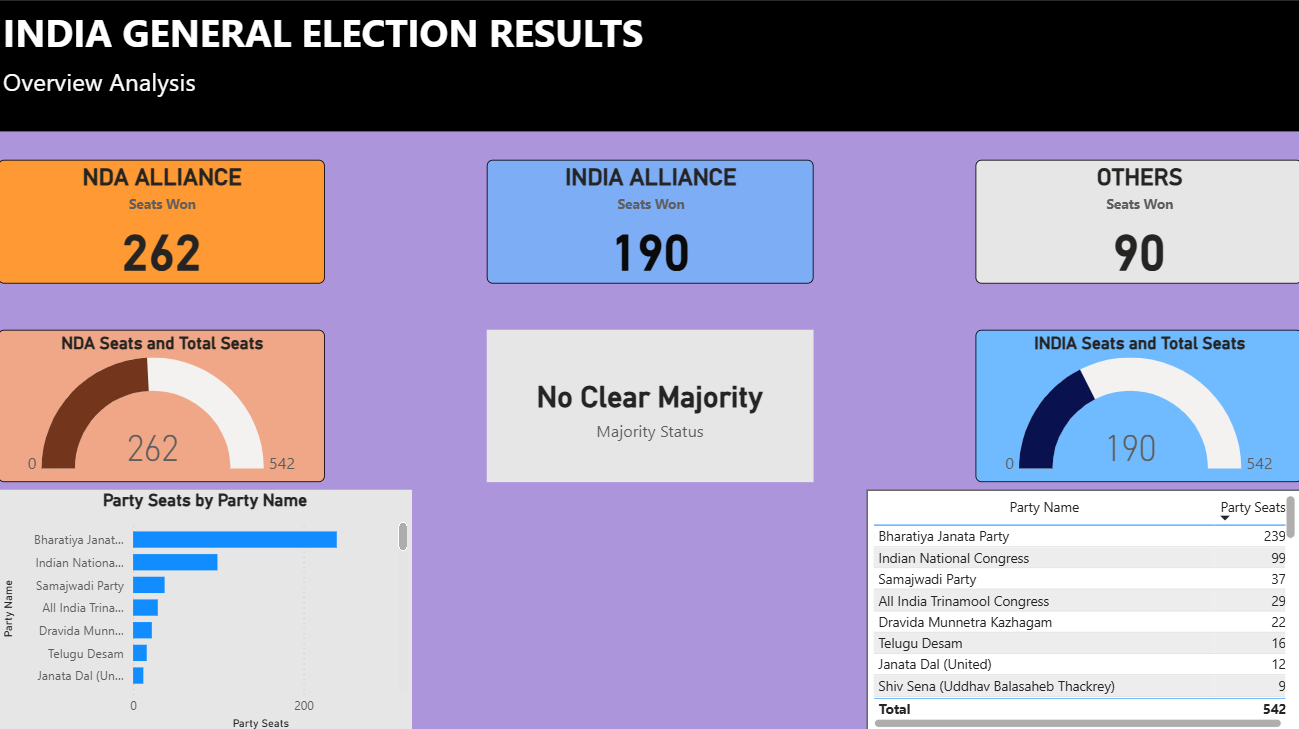

The dashboard page shown, as its layout file describes it:
{"tool":"powerbi","page":{"name":"Overview Analysis","canvas":[1280,720],"ordinal":3},"visuals":[{"type":"textbox","box":[0,0,1280,128.1],"z":0},{"type":"textbox","box":[0,57.2,1280,52.2],"z":1000},{"type":"card","title":"NDA ALLIANCE","fields":{"Values":["final_election_result_data.NDA Seats"]},"box":[0,155.5,320.9,121.9],"z":2000},{"type":"card","title":"INDIA ALLIANCE","fields":{"Values":["final_election_result_data.INDIA Seats"]},"box":[480.2,155.5,320.9,121.9],"z":3000},{"type":"card","title":"OTHERS","fields":{"Values":["final_election_result_data.Others Seats"]},"box":[959.1,155.5,320.9,121.9],"z":4000},{"type":"gauge","fields":{"Y":["final_election_result_data.NDA Seats"],"MaxValue":["final_election_result_data.Total Seats"]},"box":[0,322.2,320.9,149.3],"z":6000},{"type":"gauge","fields":{"Y":["final_election_result_data.INDIA Seats"],"MaxValue":["final_election_result_data.Total Seats"]},"box":[959.1,322.2,320.9,149.3],"z":7000},{"type":"card","fields":{"Values":["final_election_result_data.Majority Status"]},"box":[480.2,322.2,320.9,149.3],"z":8000},{"type":"tableEx","fields":{"Values":["final_election_result_data.Party Name","final_election_result_data.Party Seats"]},"box":[853.4,480.2,426.7,240.1],"z":9000},{"type":"clusteredBarChart","fields":{"Category":["final_election_result_data.Party Name"],"Y":["final_election_result_data.Party Seats"]},"box":[0,480.2,406.8,240.1],"z":10000}]}

Visuals, with their boxes in screenshot pixels (x1, y1, x2, y2), scaled from the page's 1280x720 canvas onto the 1299x729 screenshot:
textbox: [x1=0, y1=0, x2=1298, y2=130]
textbox: [x1=0, y1=58, x2=1298, y2=111]
"NDA ALLIANCE" card: [x1=0, y1=157, x2=326, y2=281]
"INDIA ALLIANCE" card: [x1=487, y1=157, x2=813, y2=281]
"OTHERS" card: [x1=973, y1=157, x2=1298, y2=281]
gauge - final_election_result_data.NDA Seats x final_election_result_data.Total Seats: [x1=0, y1=326, x2=326, y2=477]
gauge - final_election_result_data.INDIA Seats x final_election_result_data.Total Seats: [x1=973, y1=326, x2=1298, y2=477]
card - final_election_result_data.Majority Status: [x1=487, y1=326, x2=813, y2=477]
tableEx - final_election_result_data.Party Name x final_election_result_data.Party Seats: [x1=866, y1=486, x2=1298, y2=728]
clusteredBarChart - final_election_result_data.Party Name x final_election_result_data.Party Seats: [x1=0, y1=486, x2=413, y2=728]
